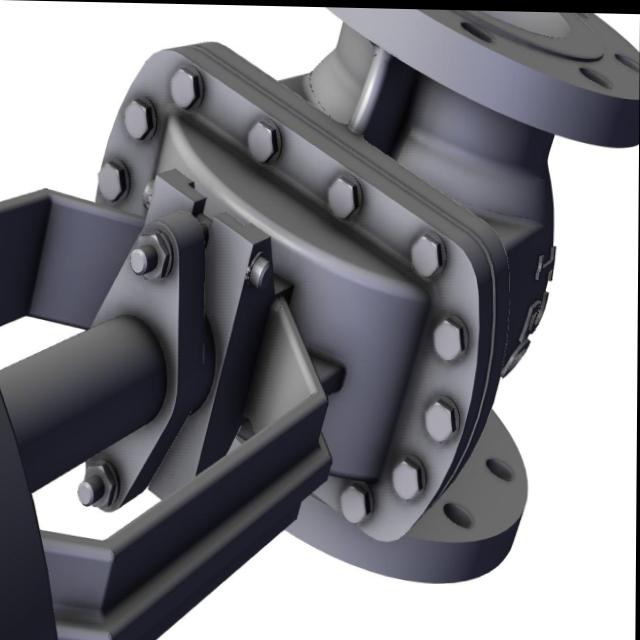Regular bolt: (133, 230, 173, 282), (78, 461, 118, 513), (411, 230, 443, 279), (247, 119, 281, 165), (434, 316, 466, 364), (425, 399, 458, 442), (328, 175, 360, 219), (393, 456, 426, 498), (171, 67, 203, 110), (125, 96, 155, 141), (98, 161, 128, 203), (343, 483, 372, 523)
